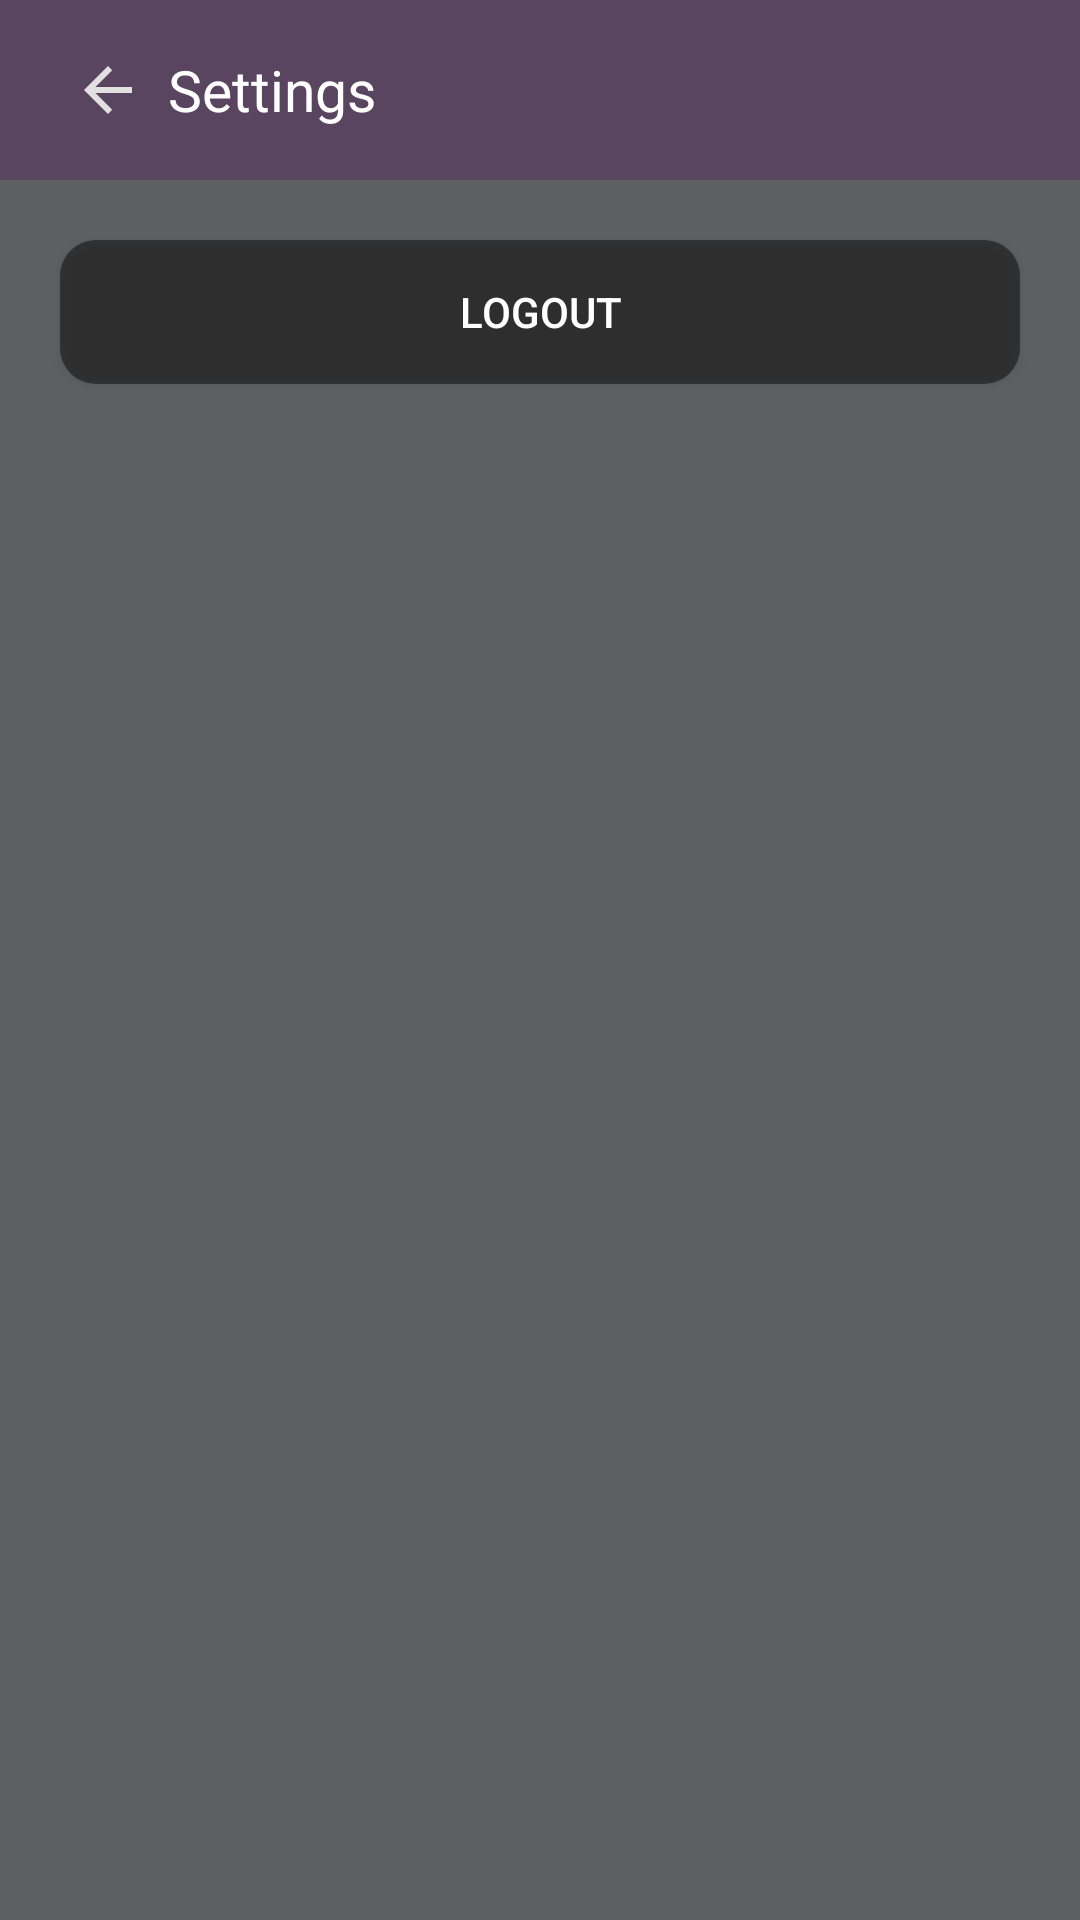

Icons on this 1080px x 1920px Android screen, each with its box as [left=x1, top=y1, right=x2, bottom=y2]:
Back: [left=84, top=66, right=132, bottom=114]
